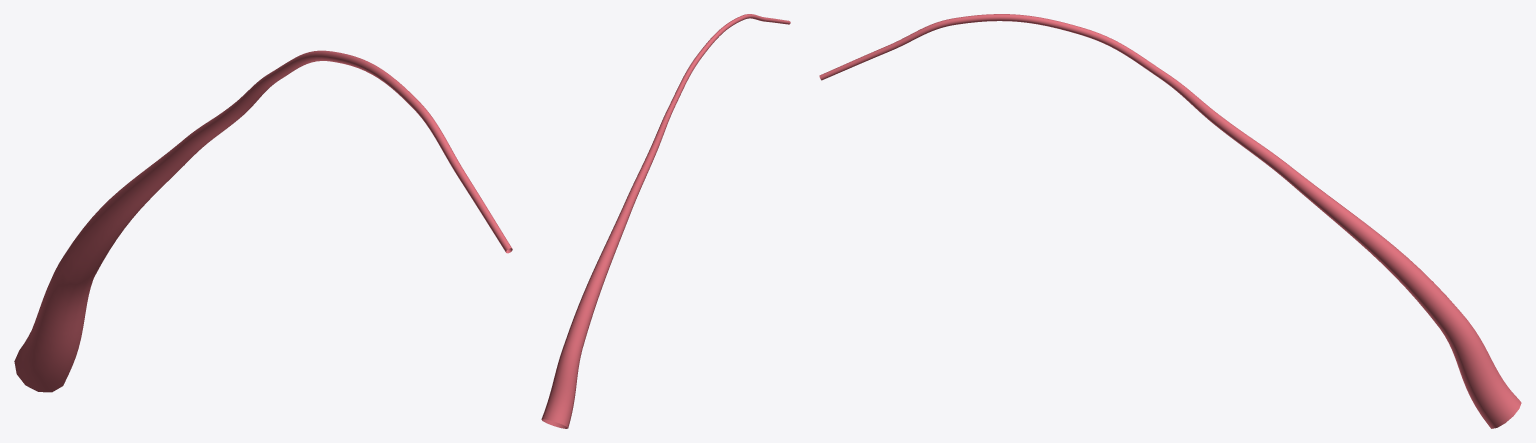
3 renders of one model, left to right at view 1: azimuth 30°, elevation 25°; view 2: azimuth 150°, elevation 25°; view 3: azimuth 270°, elevation 25°, orthographic. The views are drawn at different scales.
Parts seen in each view (by area): view 1: ZA_3057a9c9e53d9fad; view 2: ZA_3057a9c9e53d9fad; view 3: ZA_3057a9c9e53d9fad.
Part boxes in pixels (x1,y1,x2,y2): ZA_3057a9c9e53d9fad: (14, 50, 512, 392); ZA_3057a9c9e53d9fad: (541, 14, 790, 428); ZA_3057a9c9e53d9fad: (819, 14, 1521, 428).
Bounding box in the file's own units: 0.003 × 0.0329 × 0.0508.
